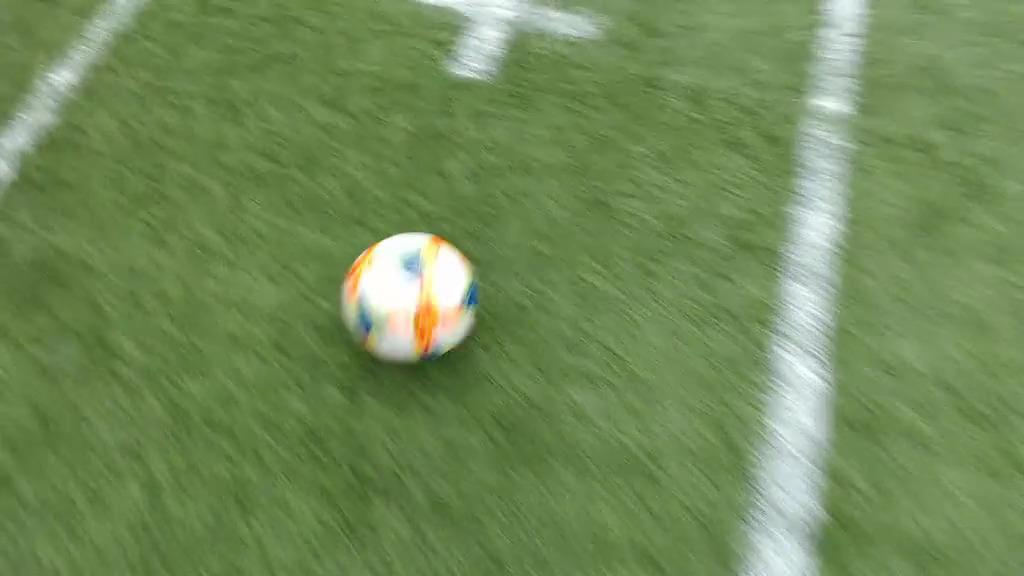ball: (339, 232, 478, 362)
